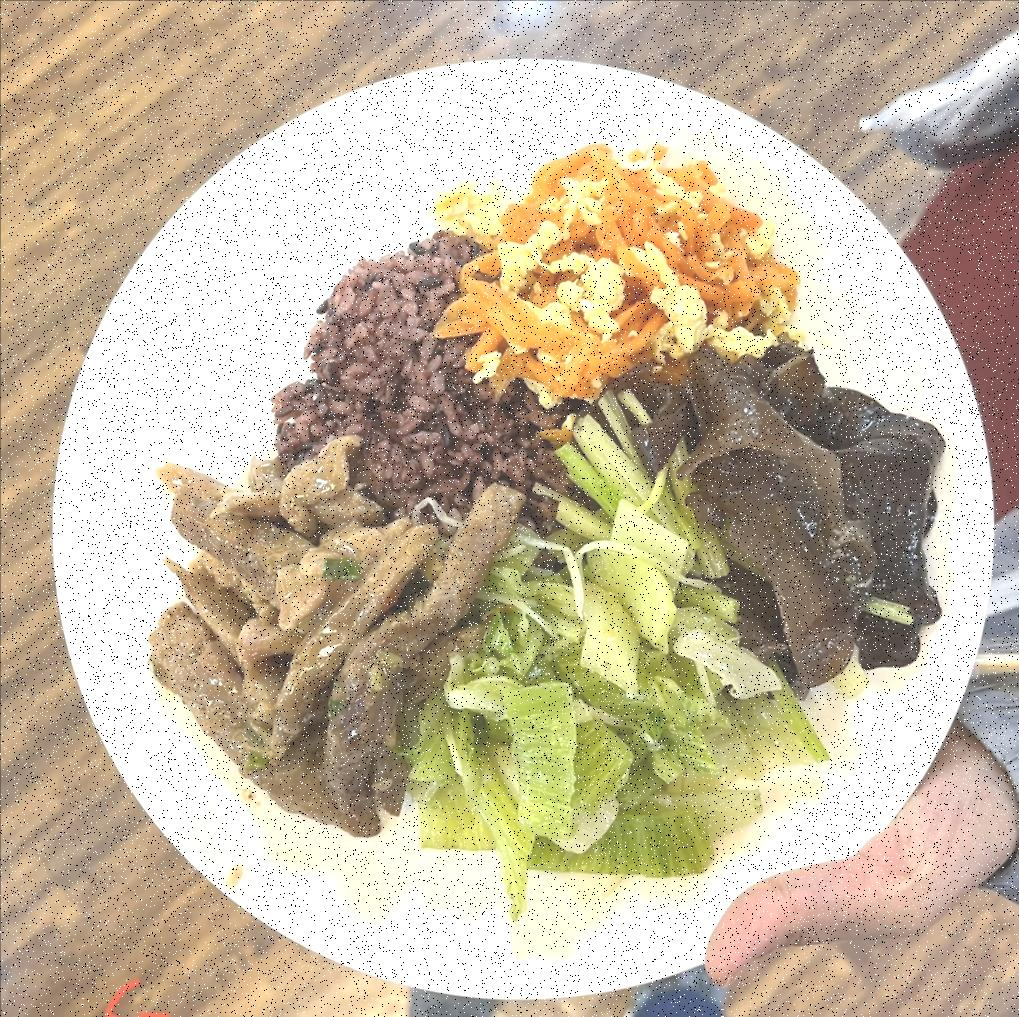plate: (56, 53, 1004, 994)
purple rice: (258, 226, 587, 534)
shacha pork: (133, 466, 523, 842)
side dish: (450, 467, 790, 880), (433, 128, 807, 386), (666, 346, 960, 670)
